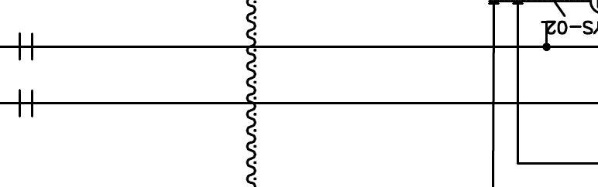115_buffer: (18, 32, 33, 61), (19, 89, 33, 118)
